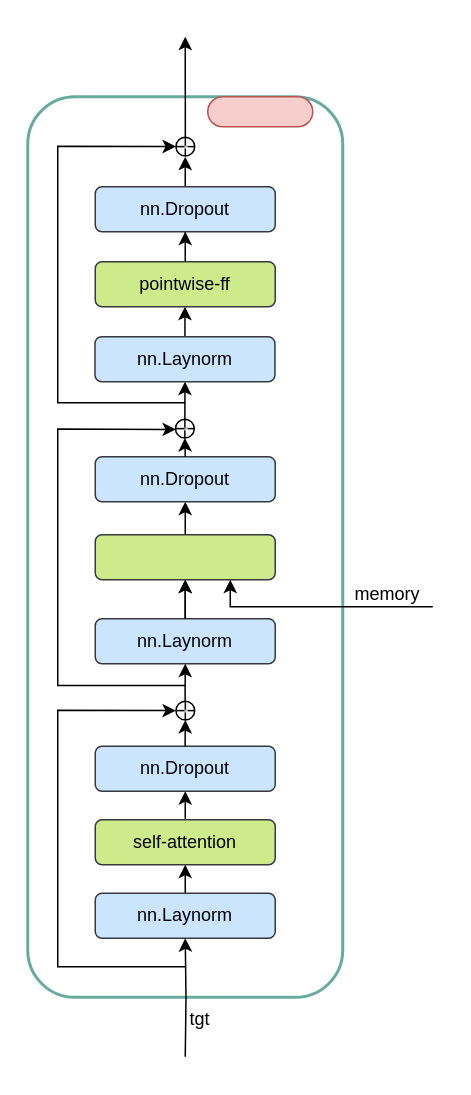
The diagram is 471 pixels wide and 1095 high, and some of its shapes have lost their labels. The shapes that lost their labels are listed below. From the top down, each one's centre as x and y in pixels, then its label:
the point at 259,111: decoder-layer
the point at 184,556: src-attention
